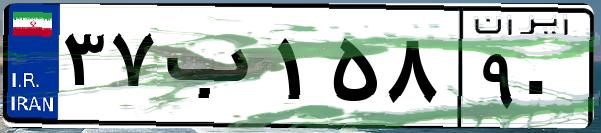0: (525, 38, 570, 115)
1: (270, 28, 330, 110)
3: (57, 26, 110, 100)
5: (330, 28, 385, 110)
7: (110, 28, 158, 98)
8: (385, 28, 445, 110)
9: (475, 38, 525, 113)
ب: (158, 20, 270, 120)
